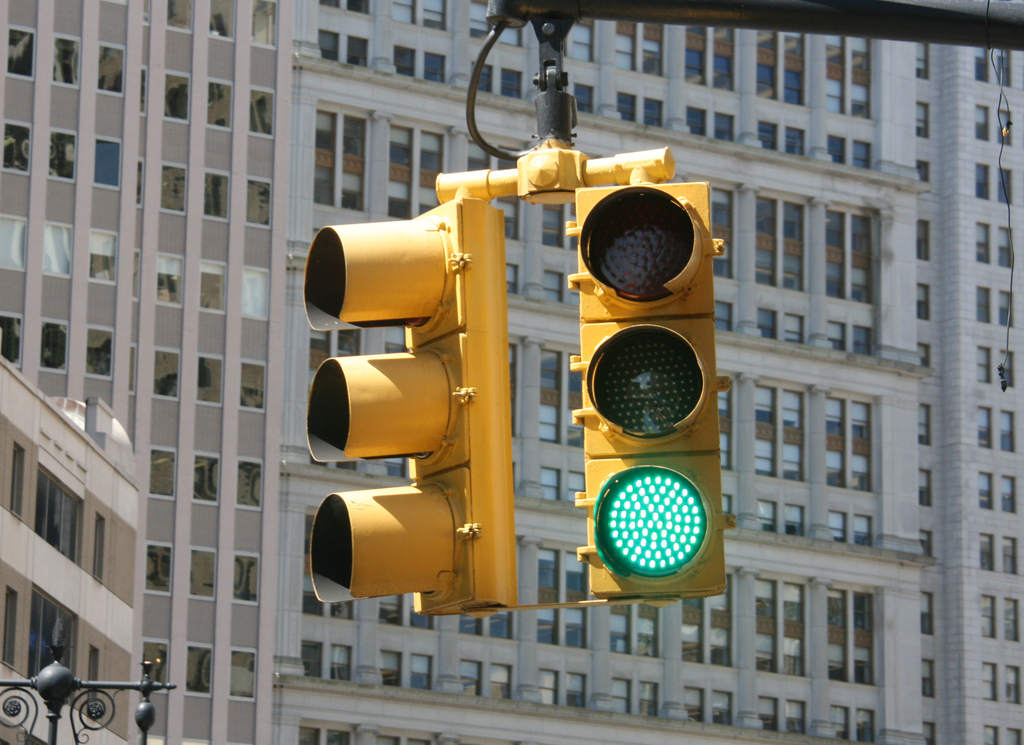green_light: (588, 192, 717, 592)
